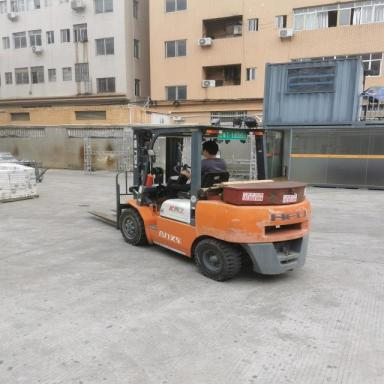forklift: (79, 115, 314, 286)
